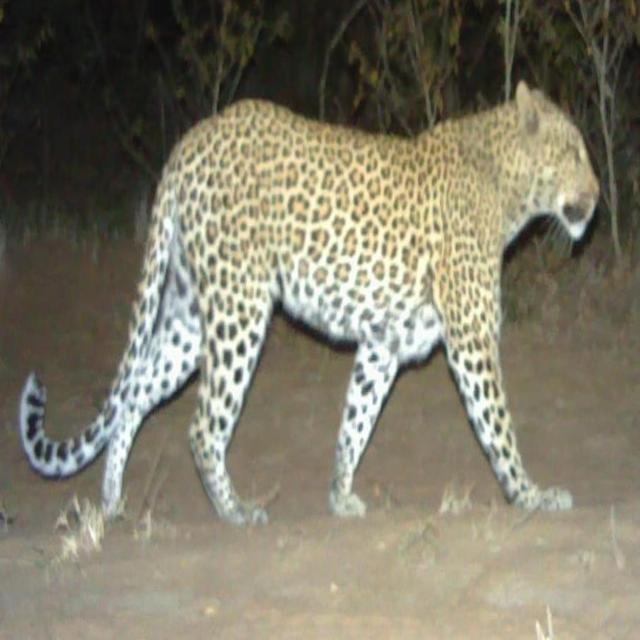Leopard: (12, 98, 605, 549)
